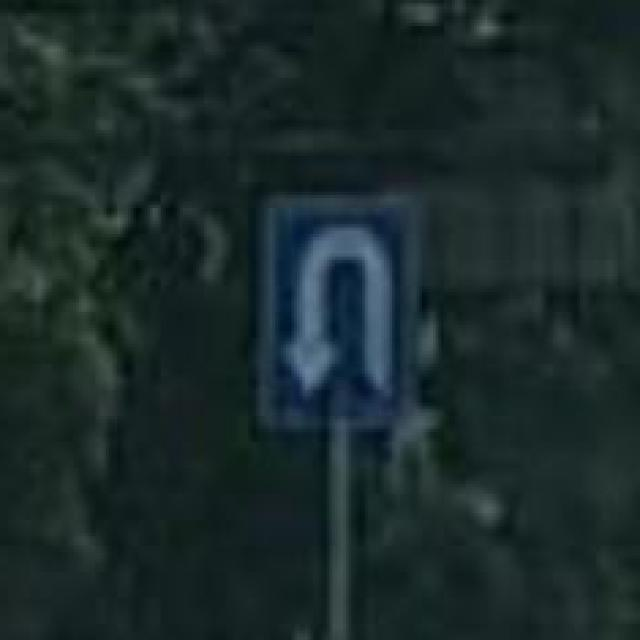U-turn: (268, 199, 409, 429)
